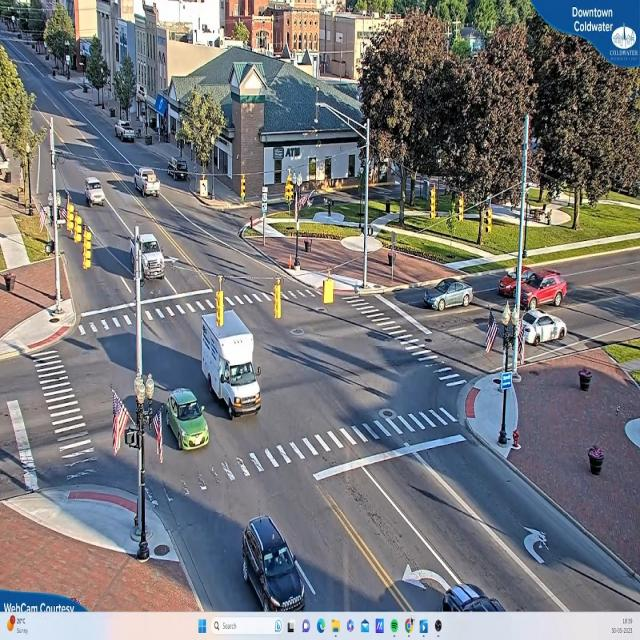car: (244, 517, 306, 611), (166, 390, 210, 452), (520, 268, 570, 307), (522, 309, 569, 345), (426, 278, 474, 311), (137, 234, 166, 278), (82, 172, 106, 210), (135, 168, 161, 202), (117, 122, 137, 145)
truck: (206, 324, 264, 418)
